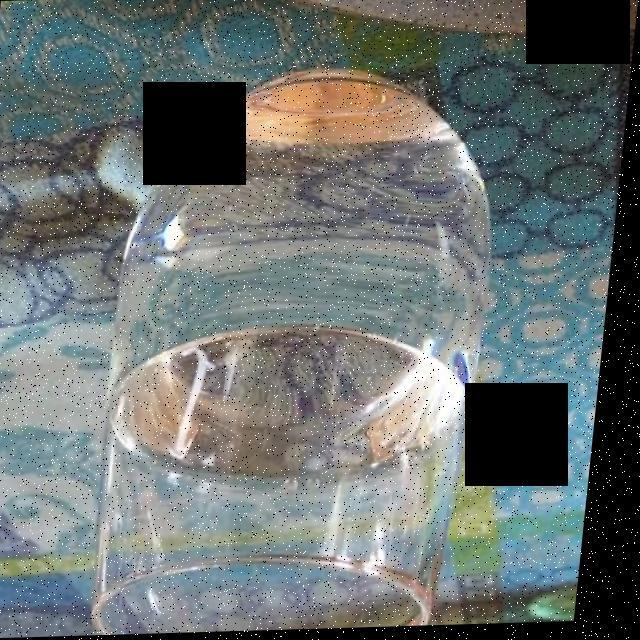water: (130, 85, 506, 463)
